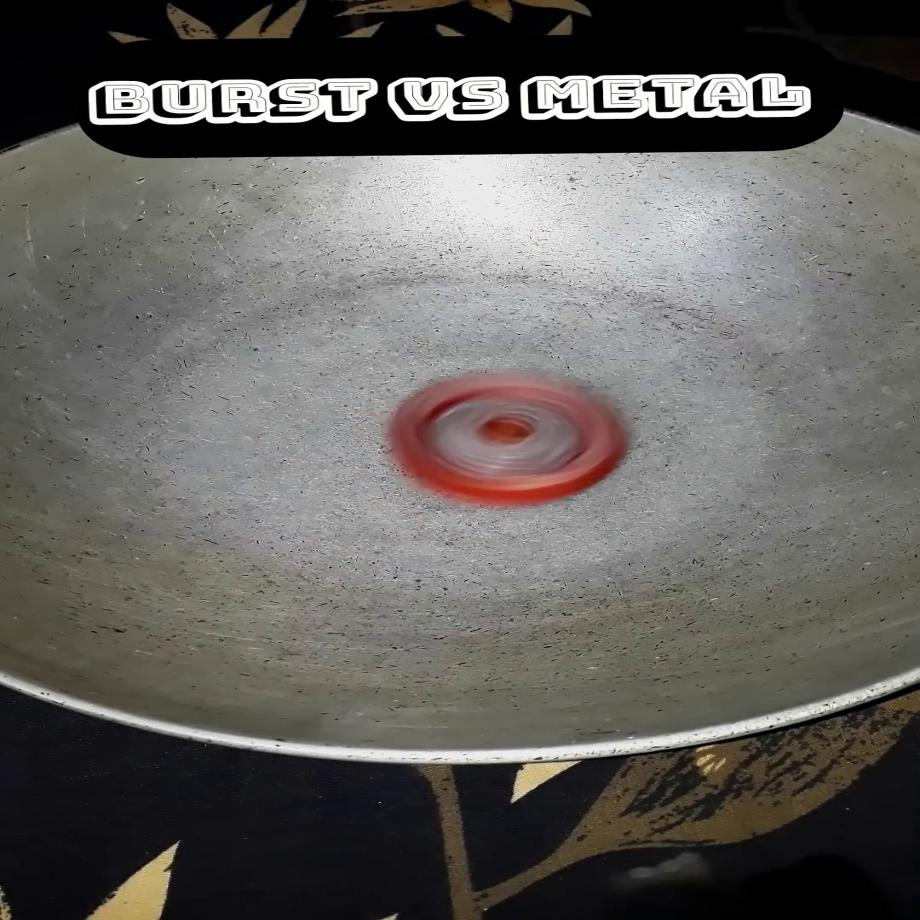beyblade: (383, 366, 639, 510)
